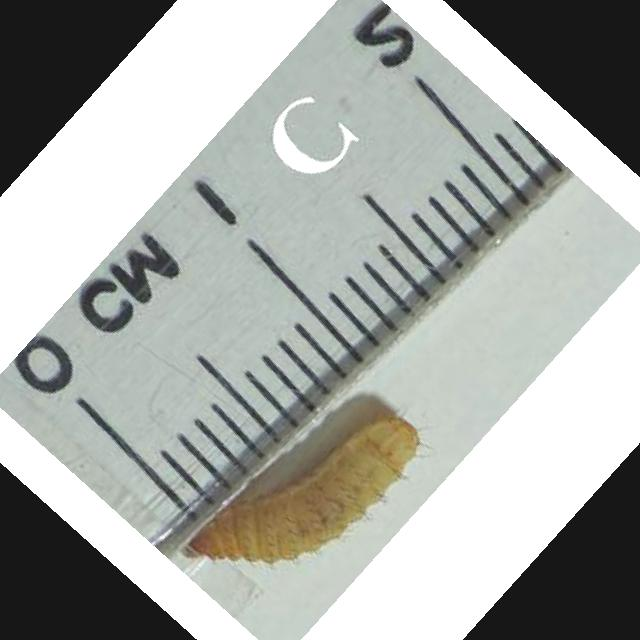Maggot: (178, 411, 419, 565)
